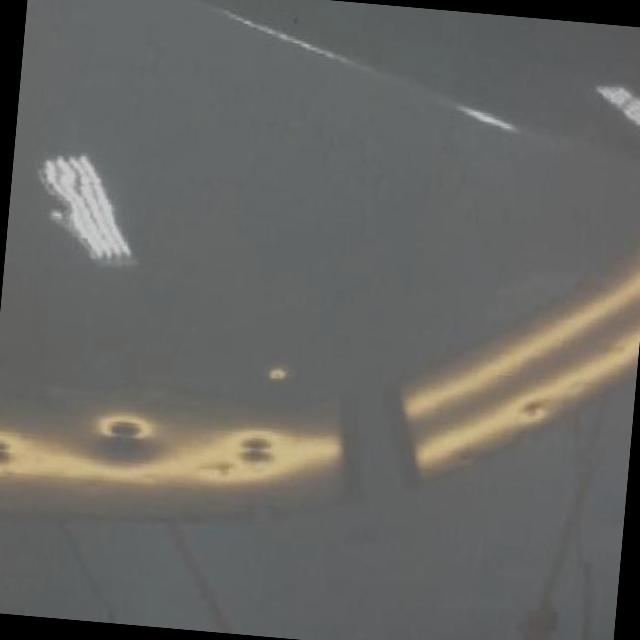dent: (94, 411, 154, 449), (234, 430, 278, 474), (513, 398, 551, 427), (0, 428, 20, 472), (198, 457, 235, 480), (262, 362, 290, 383)
